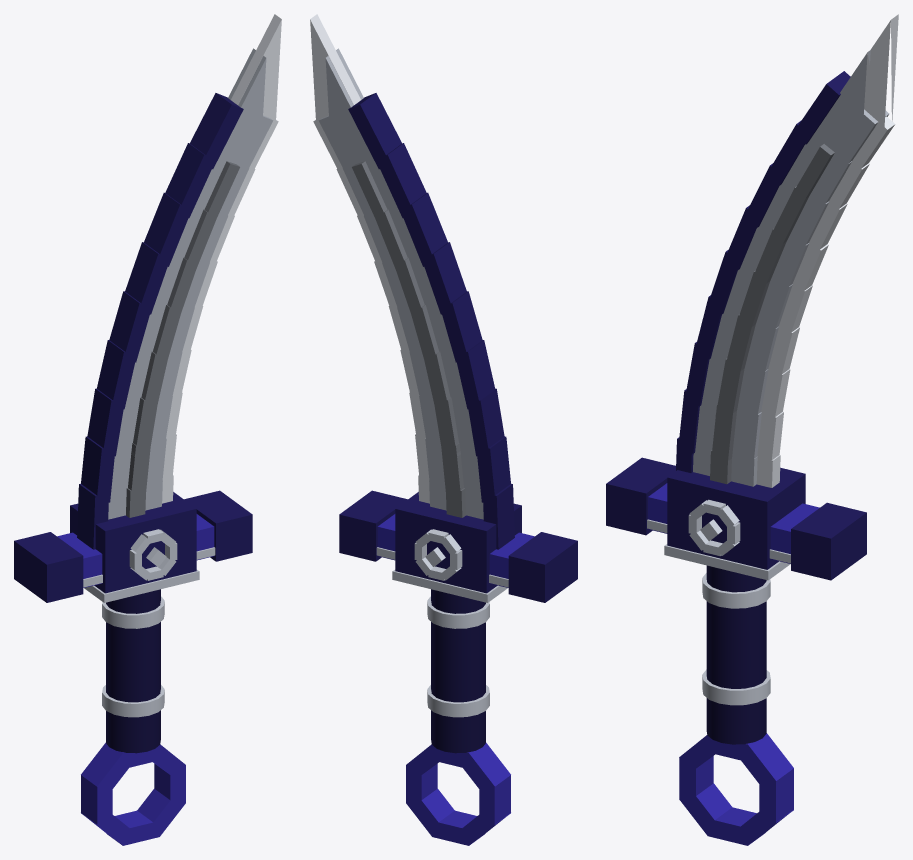
3 views of the same model, side by side, from view 1: azimuth 30°, elevation 25°; view 2: azimuth 150°, elevation 25°; view 3: azimuth 330°, elevation 25° (orthographic). The views are drawn at different scales.
Visible parts, largest first — view 1: eclipse-fang; view 2: eclipse-fang; view 3: eclipse-fang.
Boxes of the visible parts, x1=… form: eclipse-fang: x1=14, y1=14, x2=281, y2=845; eclipse-fang: x1=310, y1=14, x2=577, y2=845; eclipse-fang: x1=606, y1=14, x2=898, y2=845.
Bounding box in the file's own units: 0.1894 × 0.5723 × 0.0666.
